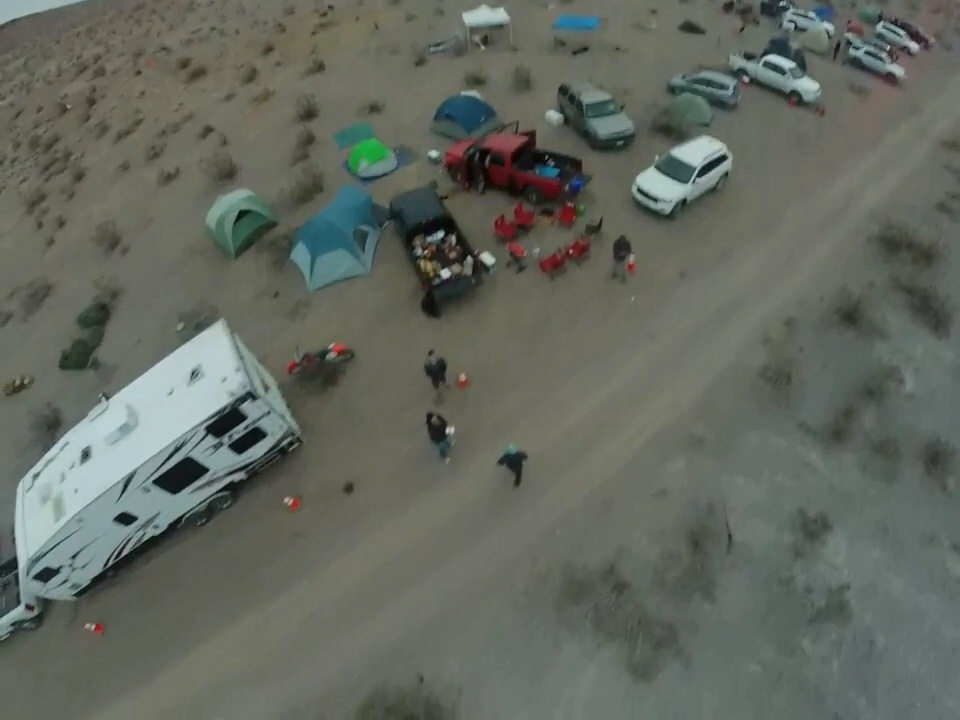araba: (630, 133, 736, 215), (557, 76, 635, 148)
insan: (420, 410, 459, 462), (495, 442, 531, 490), (424, 347, 450, 399), (609, 233, 633, 283)
kamyonet: (436, 128, 592, 205)
otobus: (14, 314, 303, 600)
